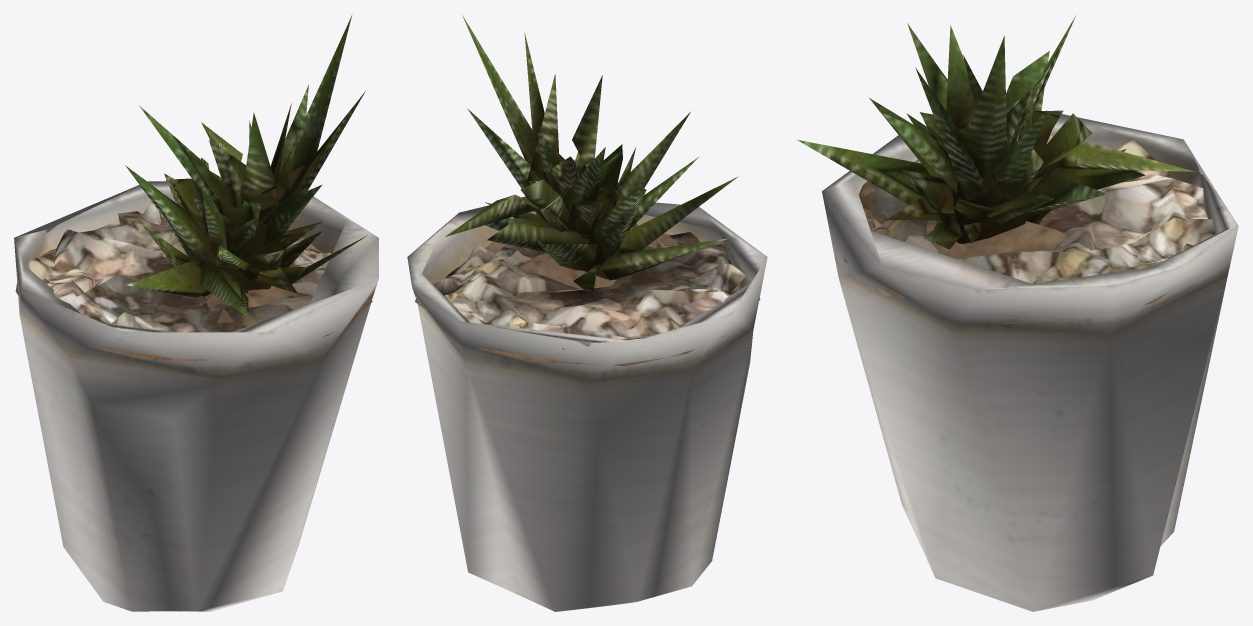
File: potted_plant_04.glb
The picture shows the model from 3 angles, left to right: view 1: azimuth 30°, elevation 25°; view 2: azimuth 150°, elevation 25°; view 3: azimuth 270°, elevation 25°; orthographic projection. The views are drawn at different scales.
Visible parts, largest first — view 1: potted_plant_04_pot, potted_plant_04_plant, potted_plant_04_ground, potted_plant_04_dirt; view 2: potted_plant_04_pot, potted_plant_04_plant, potted_plant_04_ground, potted_plant_04_dirt; view 3: potted_plant_04_pot, potted_plant_04_plant, potted_plant_04_ground, potted_plant_04_dirt.
Boxes of the visible parts, x1,y1,x2,y2 form: potted_plant_04_pot: (14,181,378,611); potted_plant_04_plant: (125,15,367,317); potted_plant_04_ground: (27,201,331,332); potted_plant_04_dirt: (15,217,372,361); potted_plant_04_pot: (407,196,767,611); potted_plant_04_plant: (445,15,738,290); potted_plant_04_ground: (433,223,745,349); potted_plant_04_dirt: (415,233,760,365); potted_plant_04_pot: (822,114,1238,611); potted_plant_04_plant: (797,16,1193,249); potted_plant_04_ground: (859,135,1214,284); potted_plant_04_dirt: (843,208,1193,320).
Size of the model in its own units: 0.1634 by 0.2598 by 0.1735.
Materials: 1 (1 with a texture image).
